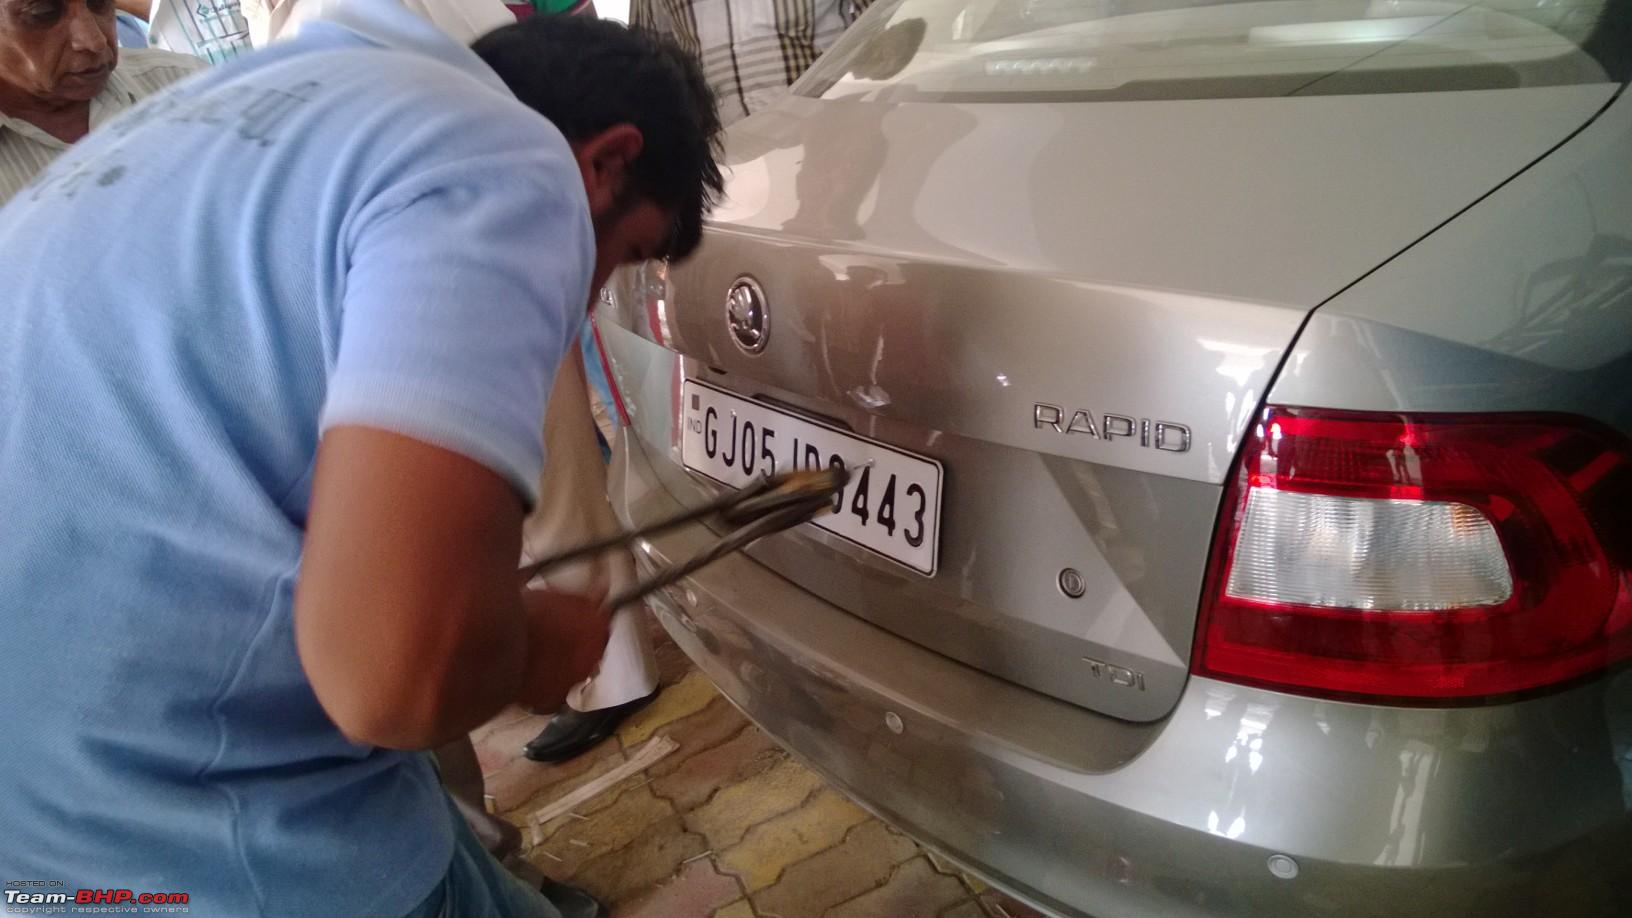number_plate: (674, 364, 957, 572)
